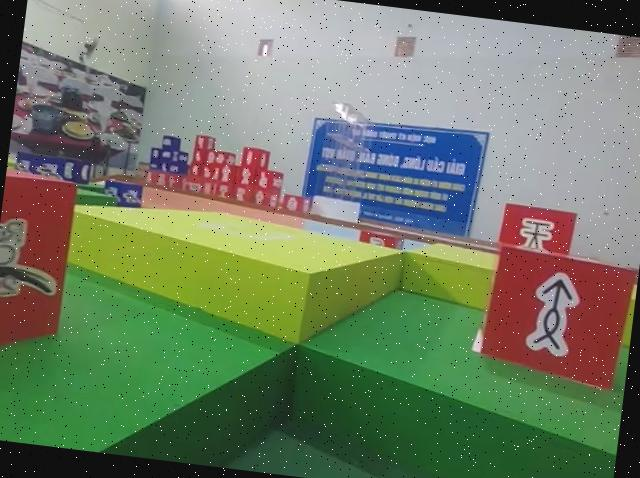R1: (0, 158, 85, 385)
R2 Real: (472, 240, 639, 395)
